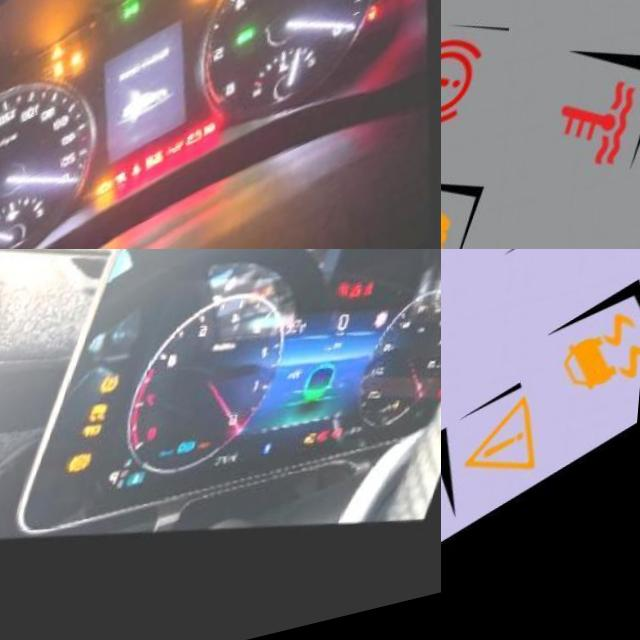Low fuel level: (409, 424, 416, 433)
